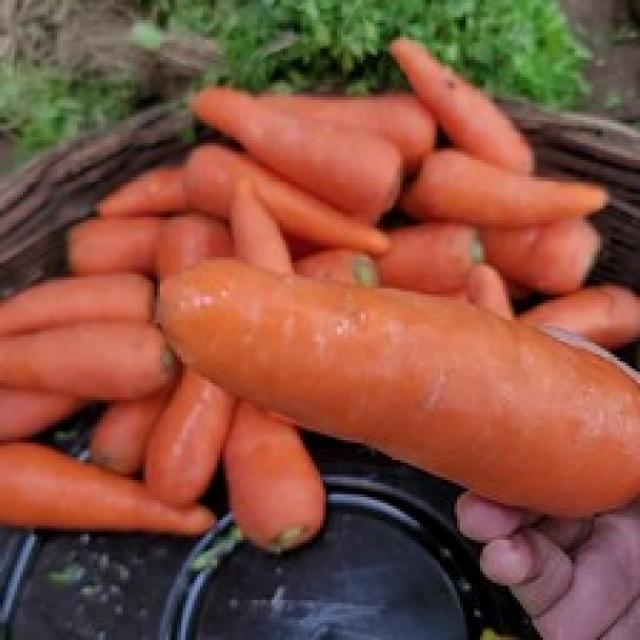Fresh_Carrot: (150, 238, 634, 516), (189, 83, 395, 236), (0, 439, 215, 537), (422, 154, 608, 242), (0, 321, 184, 403)
